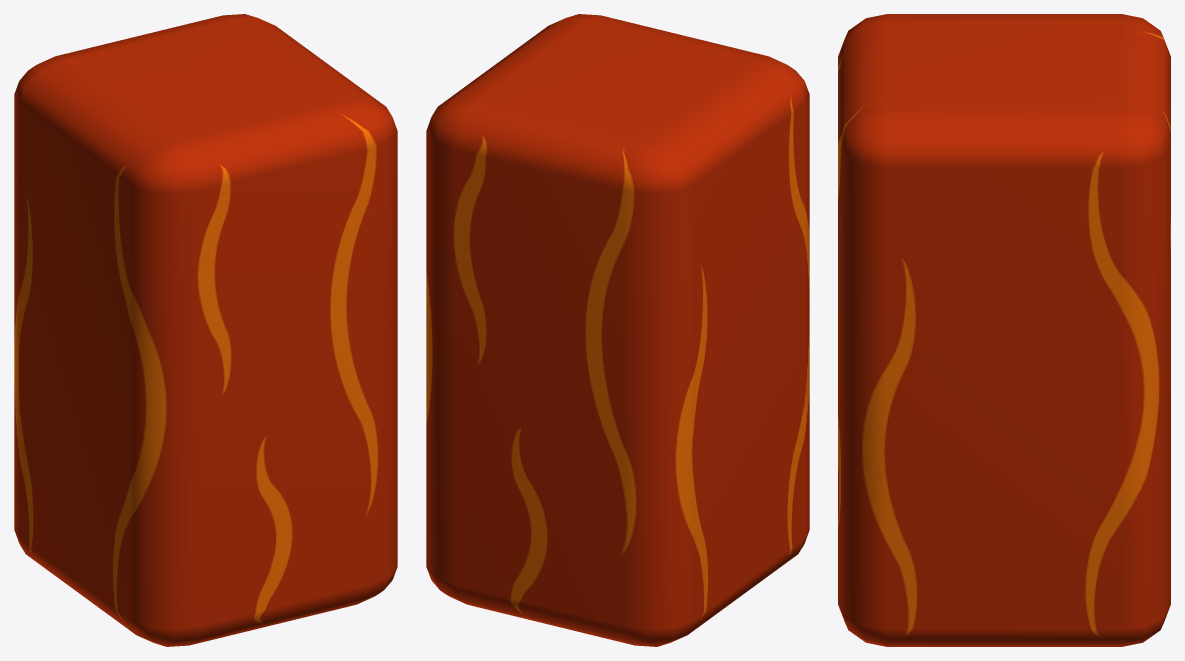
File: BoxTall.fbx
3 views of the same model, side by side, from view 1: azimuth 30°, elevation 25°; view 2: azimuth 150°, elevation 25°; view 3: azimuth 270°, elevation 25° (orthographic). The views are drawn at different scales.
Parts seen in each view (by area): view 1: BoxTall; view 2: BoxTall; view 3: BoxTall.
Part boxes in pixels (left/top/right/bottom): BoxTall: left=14, top=14, right=397, bottom=646; BoxTall: left=426, top=14, right=809, bottom=646; BoxTall: left=838, top=14, right=1170, bottom=646.
Bounding box in the file's own units: 1.01 × 1.83 × 1.04.
